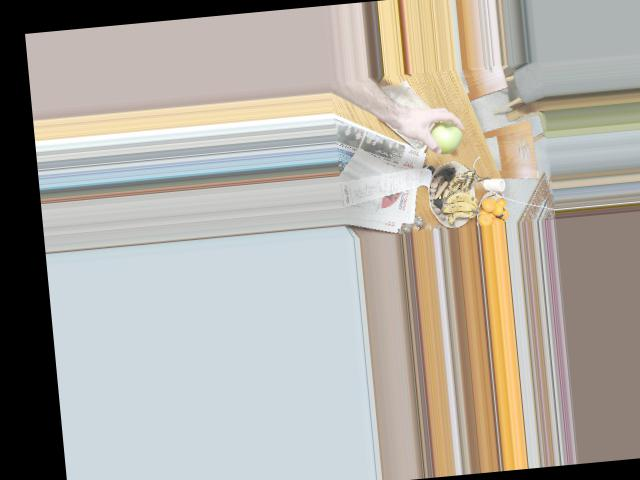apple: (428, 119, 462, 156)
